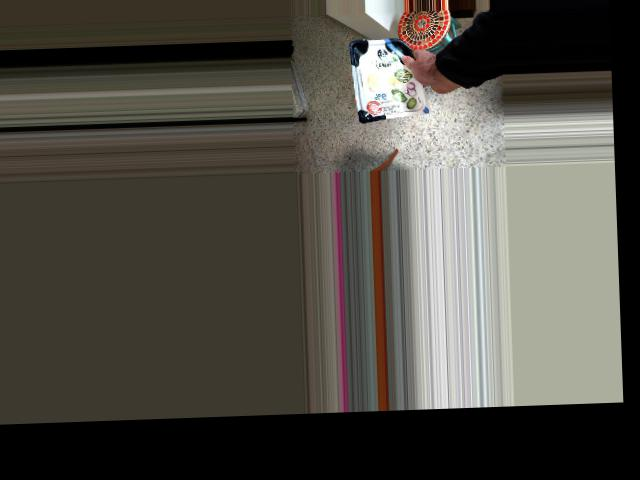cheese: (366, 37, 454, 122)
